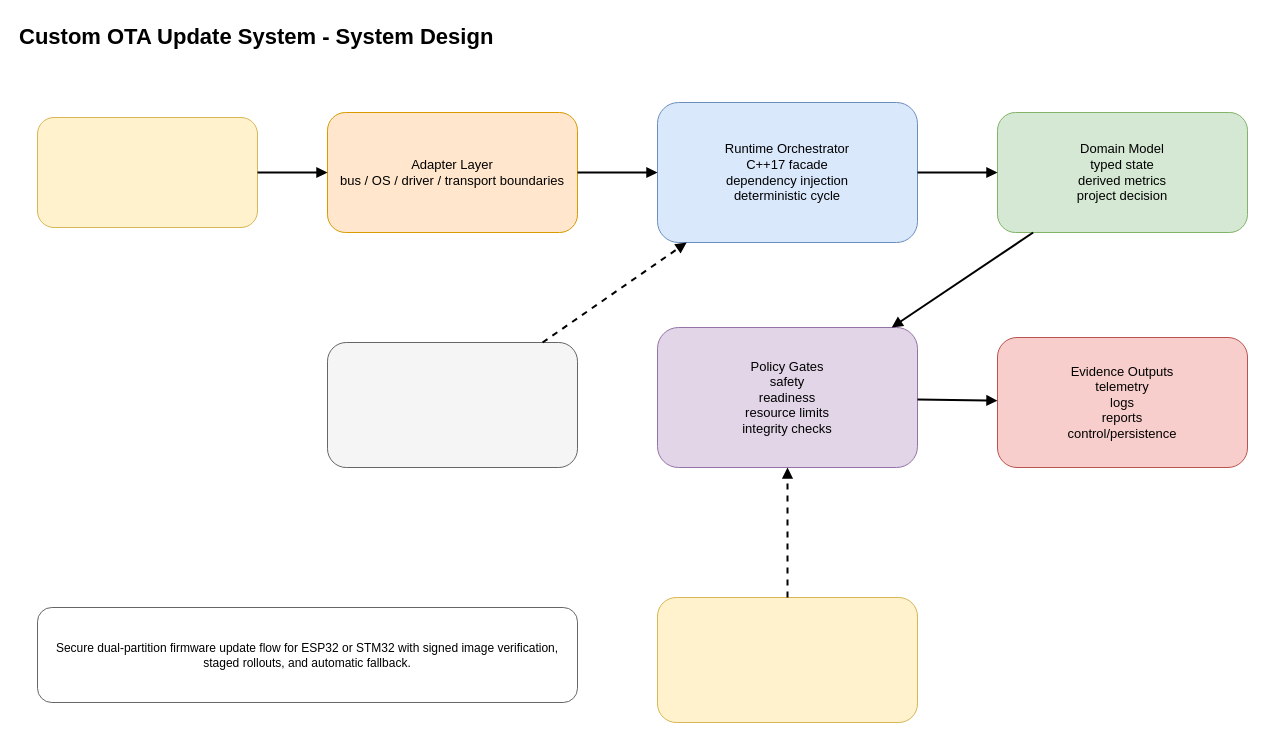
This 1265x740 diagram has some shape labels left out. Here are the shapes that lost their labels. From the top down, the centre of each, then its label:
point (147, 172): Input Sources hardware, simulator, commands
point (452, 405): Validation CTest scenarios CI hardware evidence production fixture
point (787, 659): Roadmap design package host runtime target adapters hardware evidence
